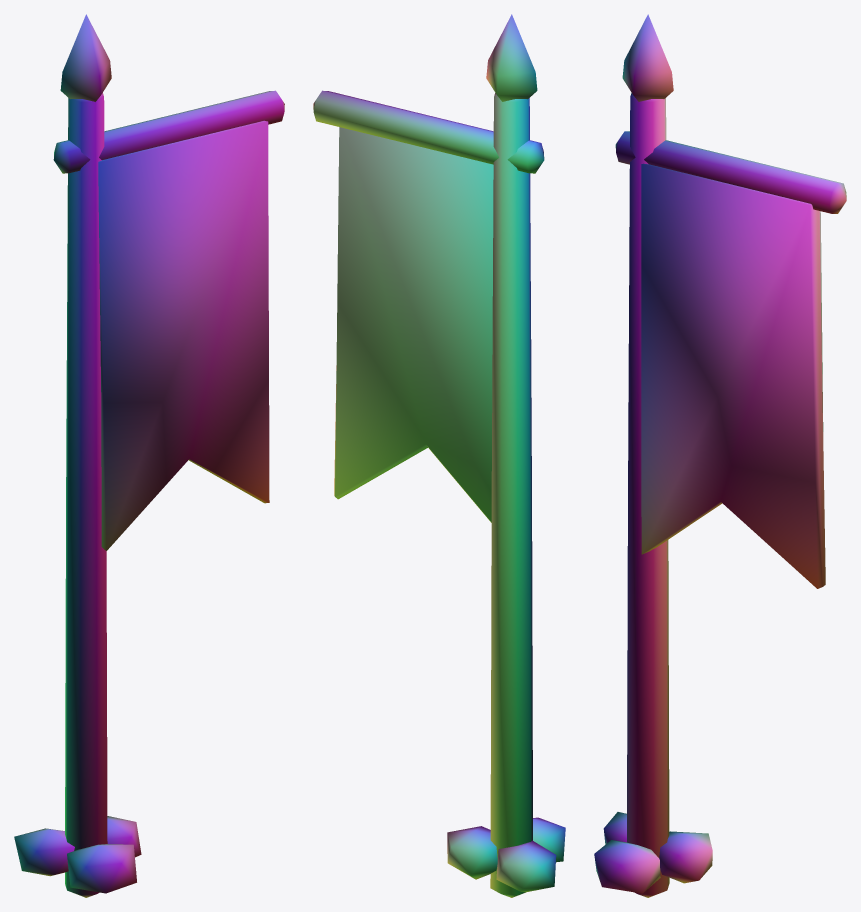
File: SM_Prop_Camp_Banner.fbx
The picture shows the model from 3 angles, left to right: view 1: azimuth 30°, elevation 25°; view 2: azimuth 150°, elevation 25°; view 3: azimuth 330°, elevation 25°; orthographic projection.
Visible parts, largest first — view 1: SM_Prop_Camp_Banner; view 2: SM_Prop_Camp_Banner; view 3: SM_Prop_Camp_Banner.
Part boxes in pixels (x1,y1,x2,y2): SM_Prop_Camp_Banner: (14,14,284,897); SM_Prop_Camp_Banner: (313,14,565,897); SM_Prop_Camp_Banner: (594,14,846,897).
Size of the model in its own units: 0.8045 by 2.69 by 0.3191.
